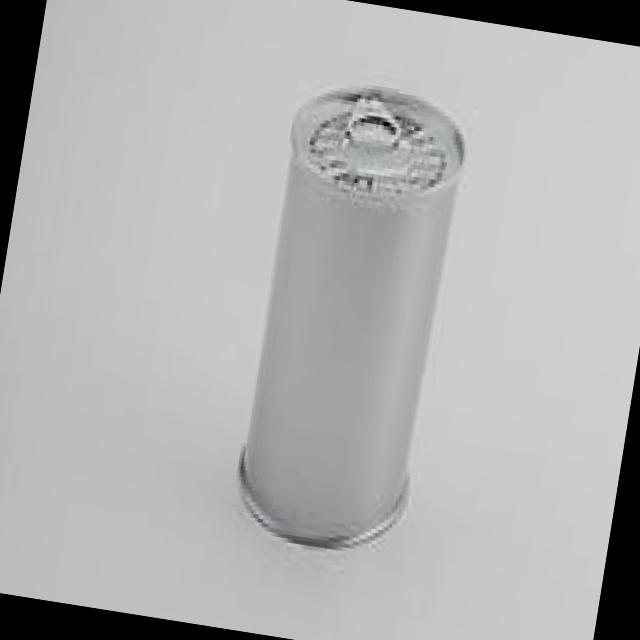kim_loai: (233, 82, 471, 551)
